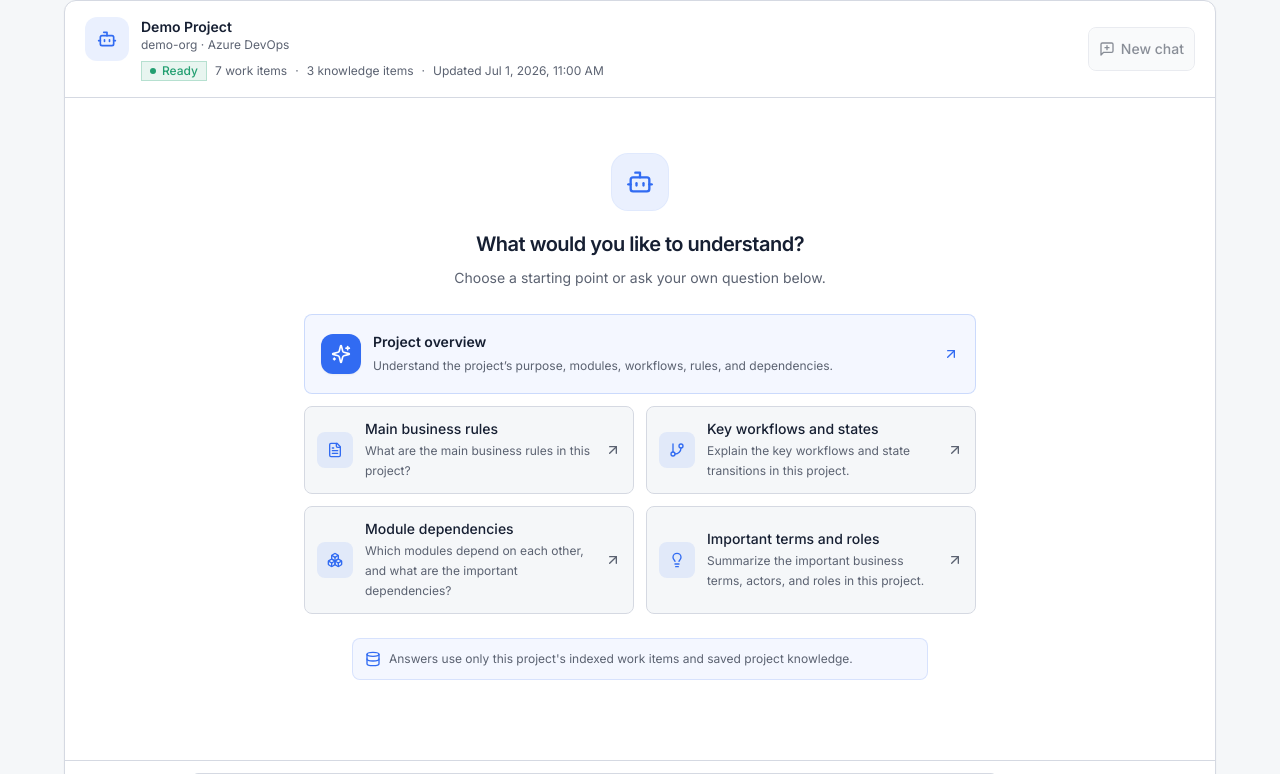
Test: BusinessOwnerAssistantClient › opens inline source details and builds an encoded Azure DevOps link
Click the button "Main business rules".
click(469, 450)  # box [304,406,634,494]
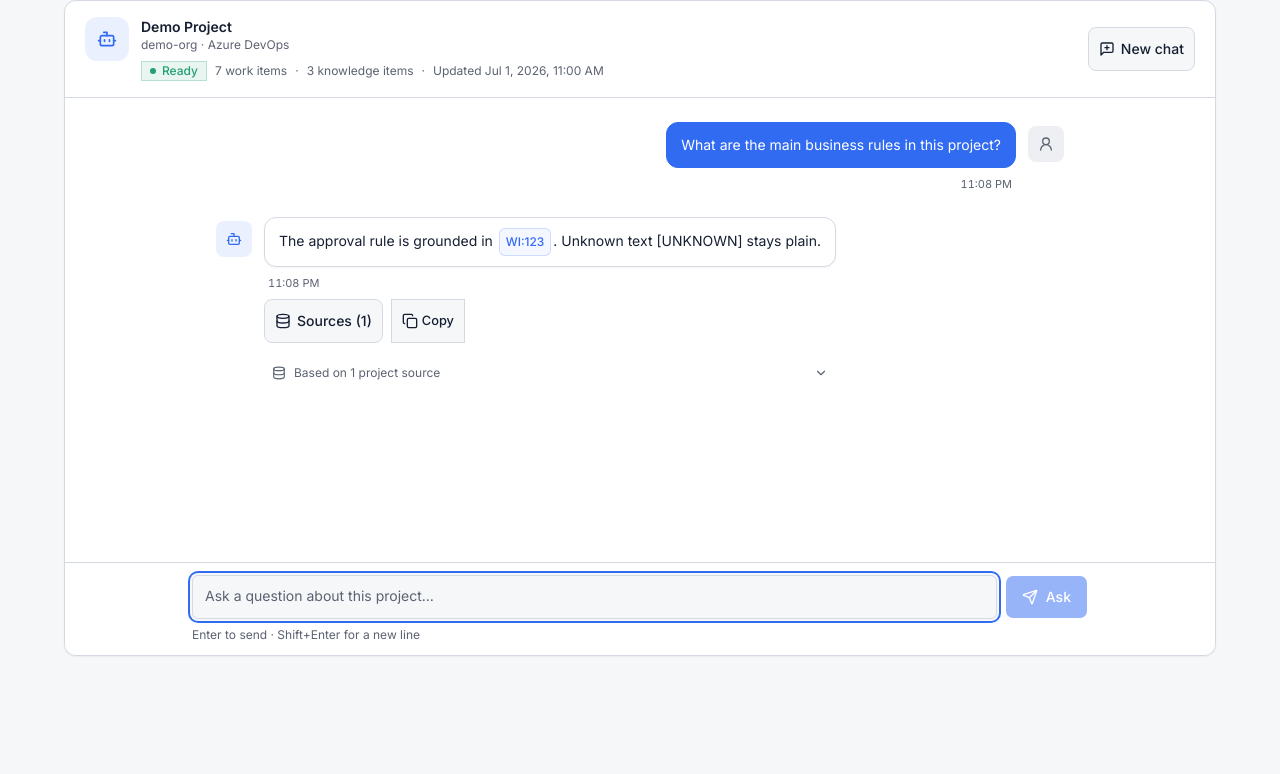
Click the button with aria-label "View source WI:123".
click(525, 242)  # box [499,228,551,256]
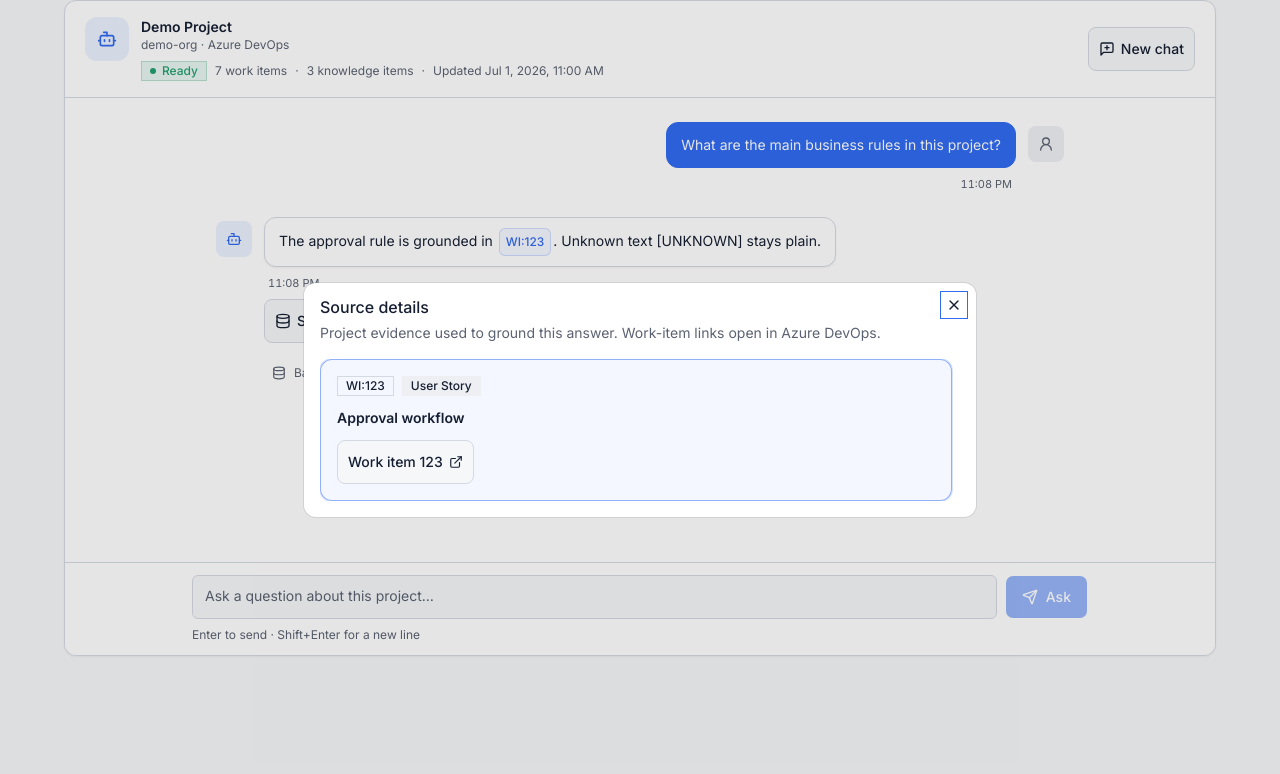
Now the heading "Source details" is shown, box [320,297,429,317]
